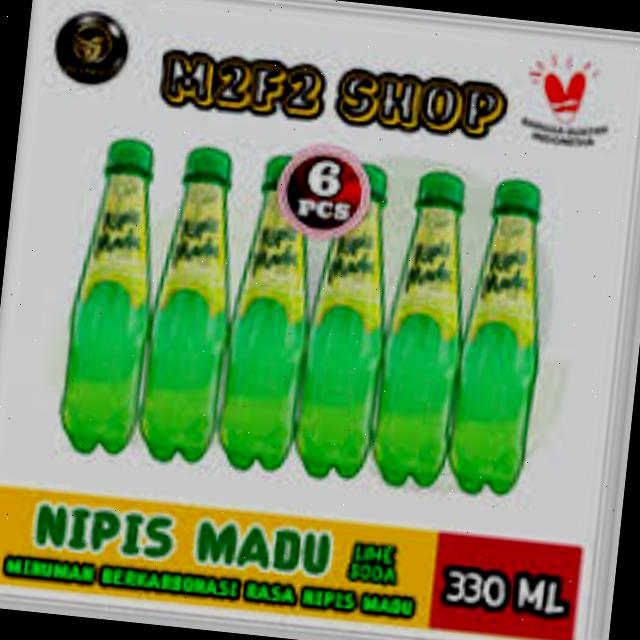trash: (50, 126, 172, 464), (440, 171, 562, 504), (127, 136, 246, 476), (212, 140, 329, 482), (362, 161, 480, 496), (287, 157, 405, 490)
